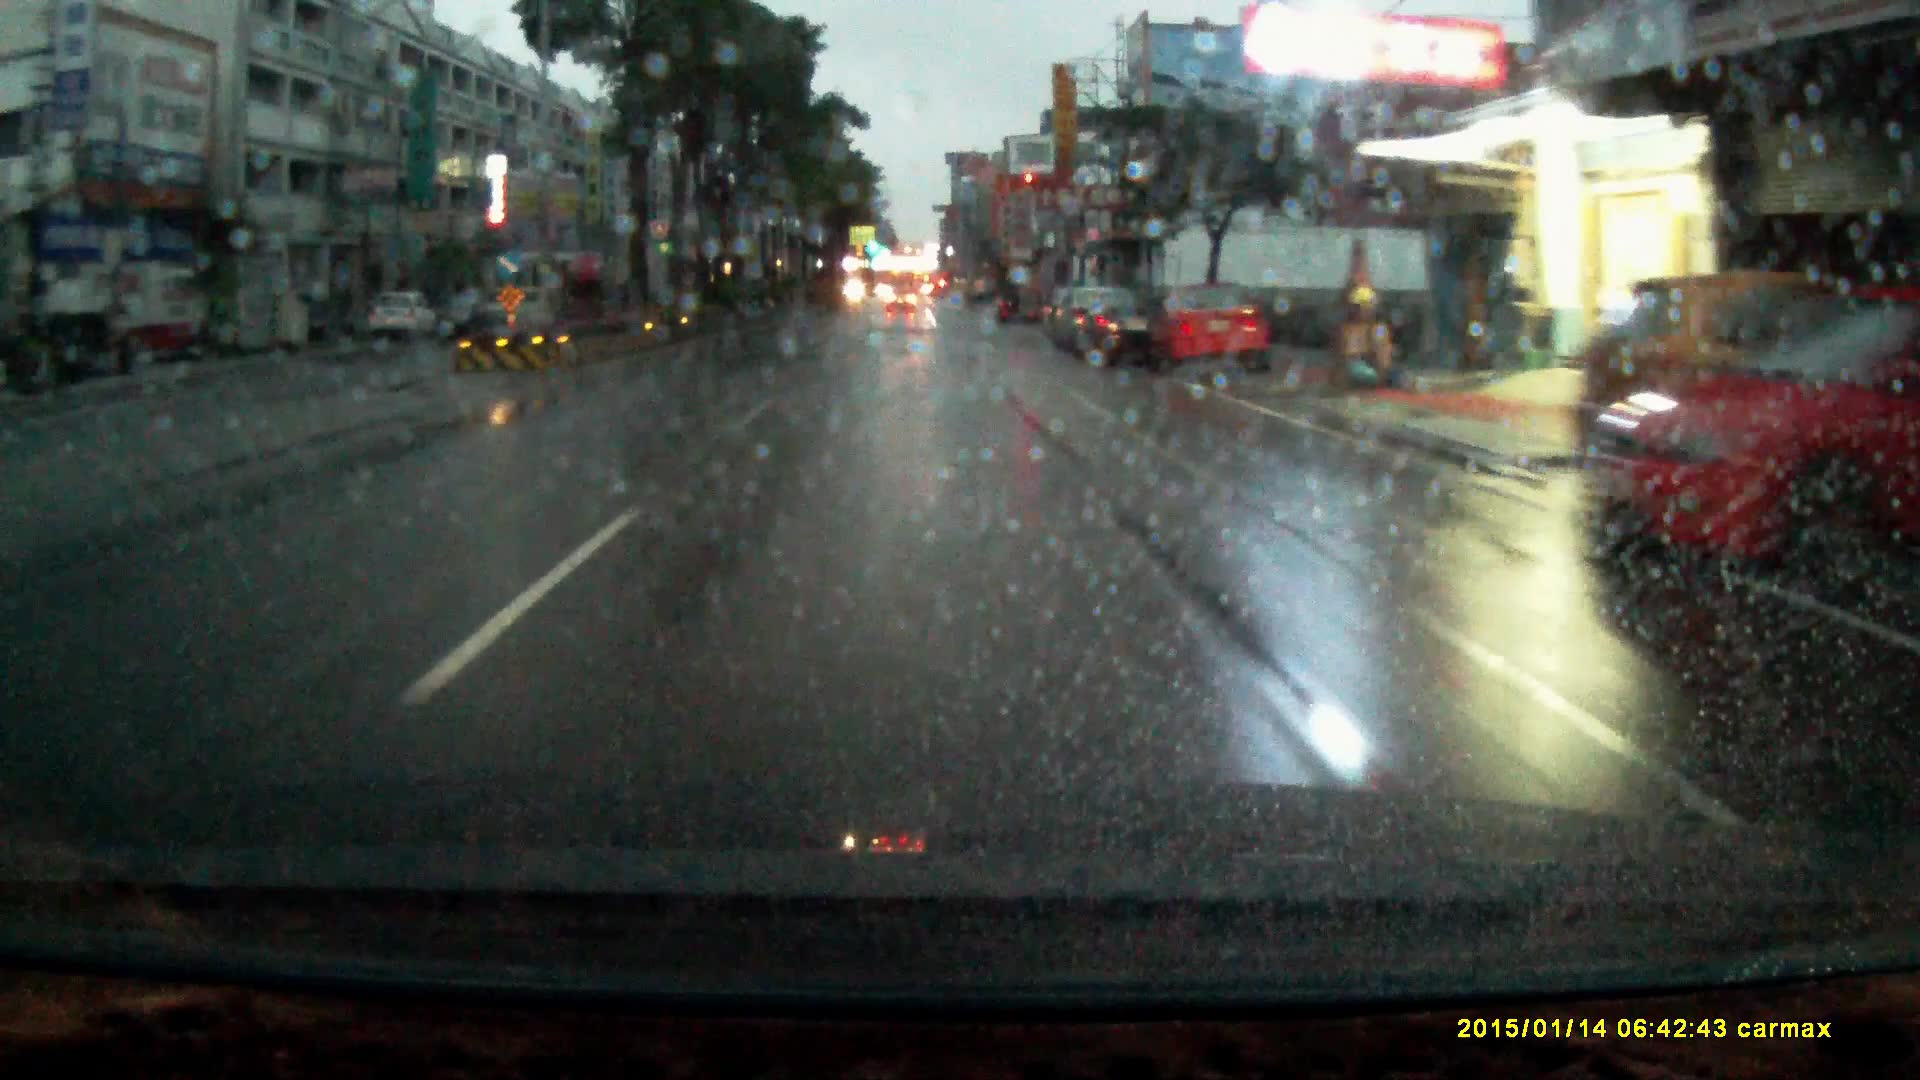vehicle: (1582, 287, 1920, 579), (1143, 294, 1271, 392), (1065, 297, 1155, 382), (1054, 287, 1130, 357), (364, 289, 440, 345), (476, 286, 555, 334), (1043, 289, 1063, 344), (887, 290, 918, 316)
